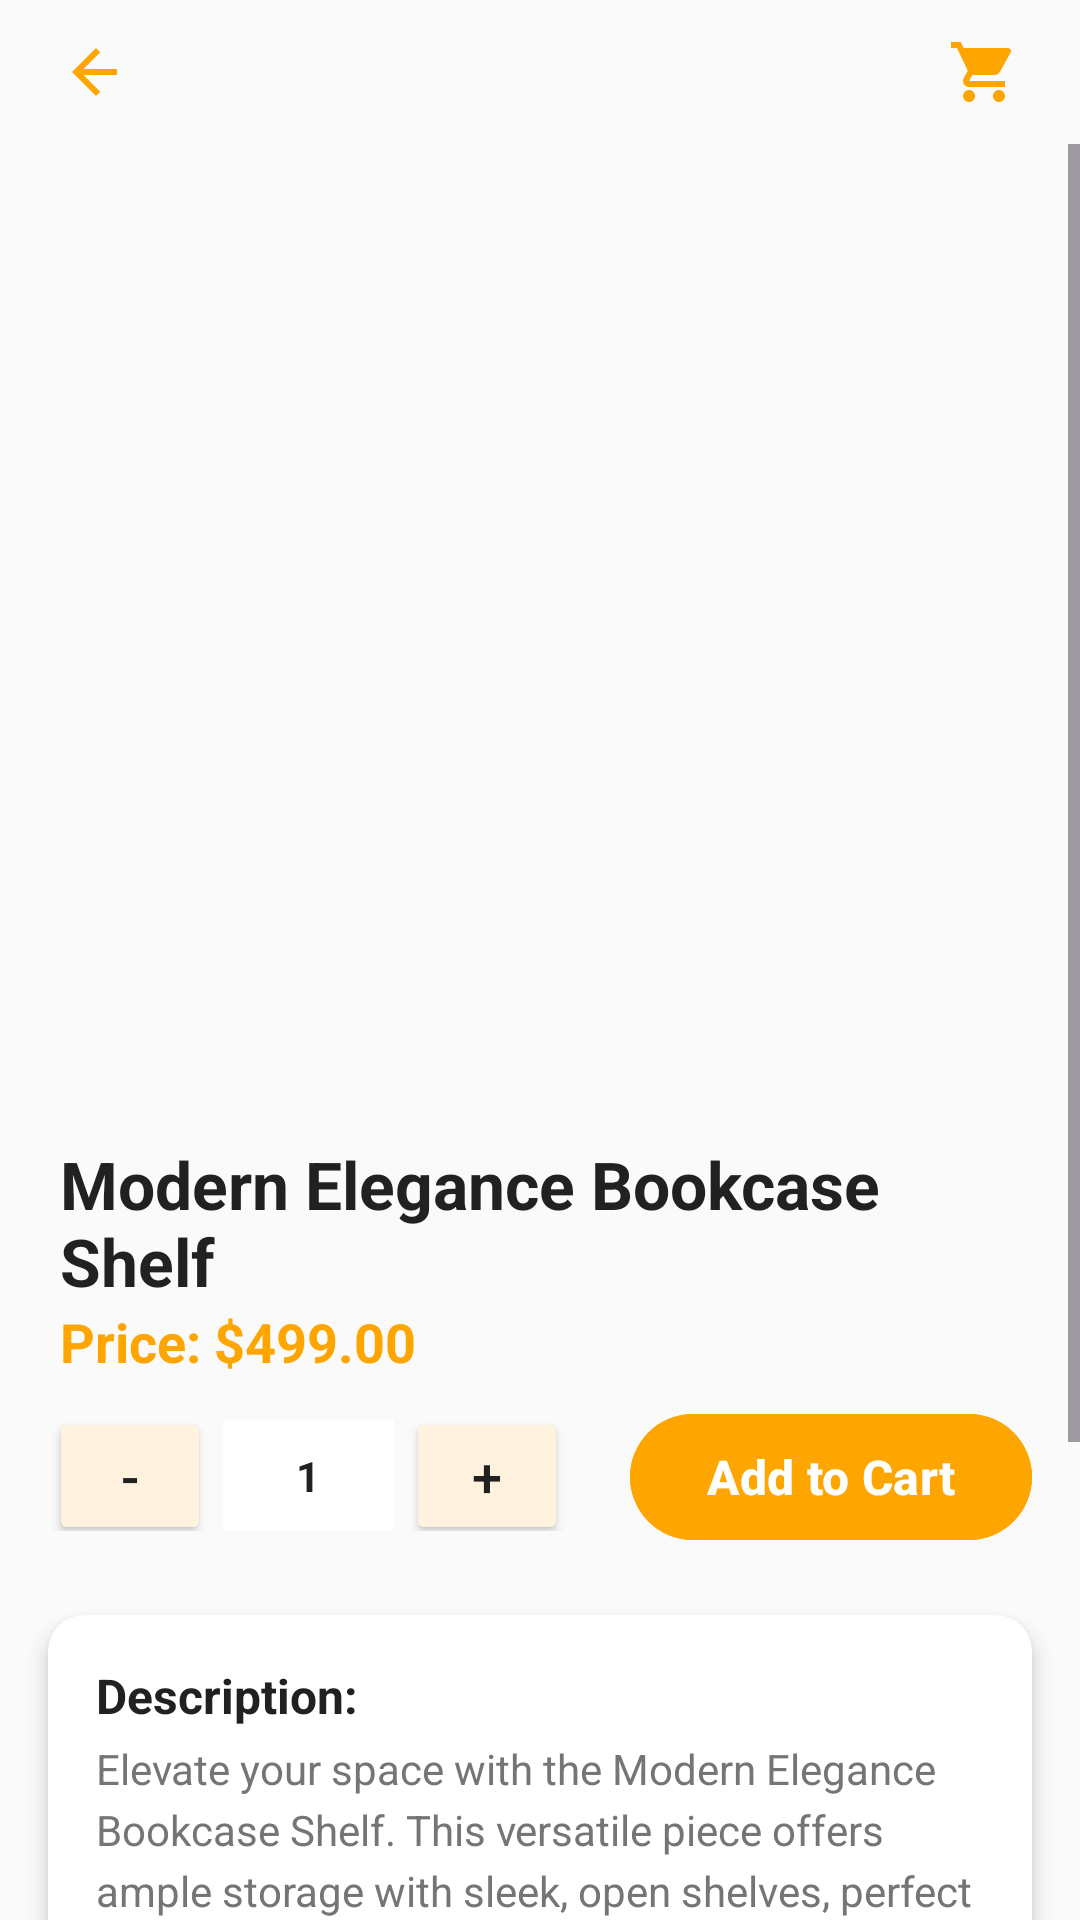

Where to tap for icons on this 1080x1920 app screen, as [x,y]:
Go Back: [94,72]
Go to Cart: [981,72]
